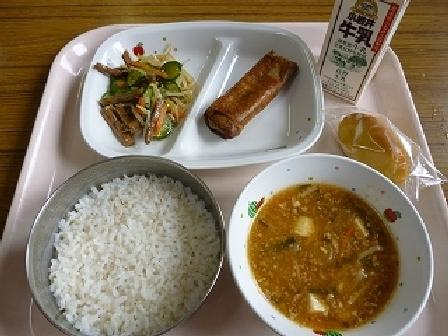Milk: (313, 0, 413, 93)
Rice: (29, 161, 225, 335)
Salad: (80, 42, 187, 135)
Spicy chili-flavored tofu: (231, 160, 427, 335)
crepe w filling: (207, 42, 302, 135)
pastry: (325, 103, 430, 188)
